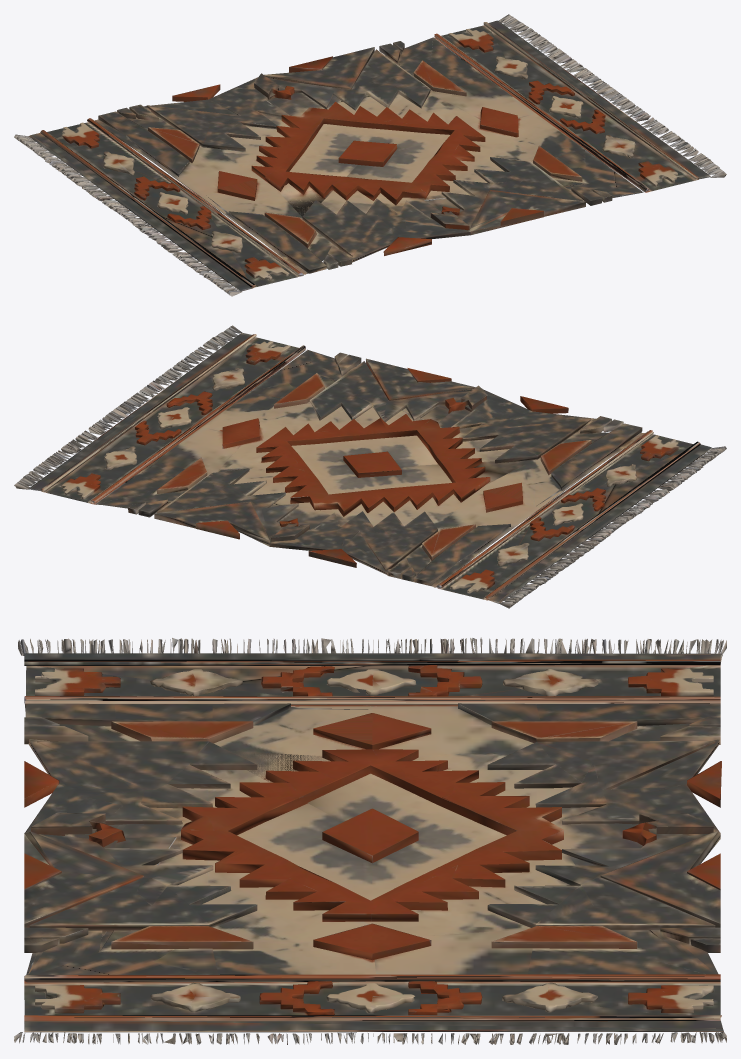
Rendered from desktop.glb.
The picture shows the model from 3 angles, top to bottom: view 1: azimuth 30°, elevation 25°; view 2: azimuth 150°, elevation 25°; view 3: azimuth 270°, elevation 25°; orthographic projection. The views are drawn at different scales.
Parts seen in each view (by area): view 1: rug; view 2: rug; view 3: rug.
Part boxes in pixels (x1=…): rug: x1=14, y1=14, x2=726, y2=296; rug: x1=14, y1=325, x2=726, y2=608; rug: x1=14, y1=637, x2=726, y2=1044.
Size of the model in its own units: 2 by 0.0391 by 1.5.
1 material, 1 textured.
